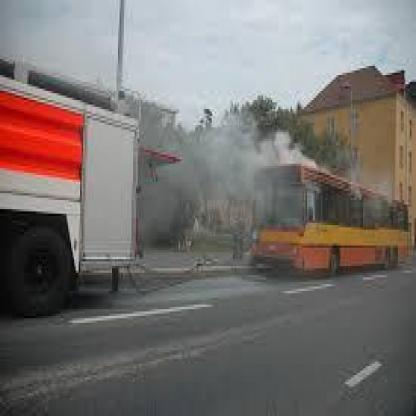smoke: (124, 88, 326, 262)
